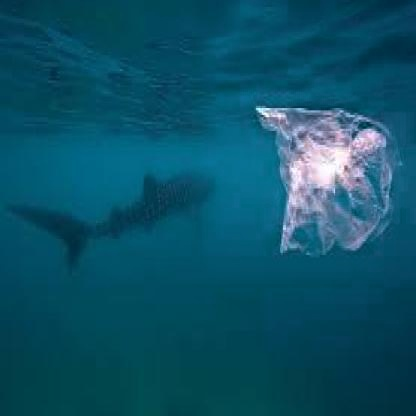pbag: (253, 101, 405, 260)
